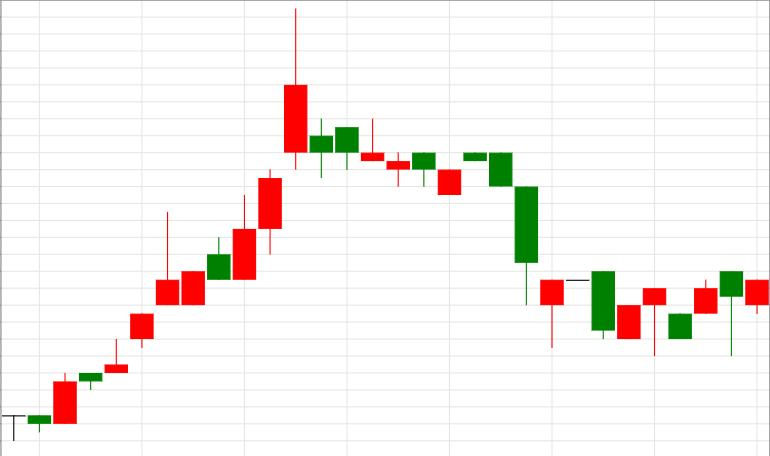hammer_rise: (413, 152, 563, 349)
shooting_star_fall: (54, 214, 179, 424)
